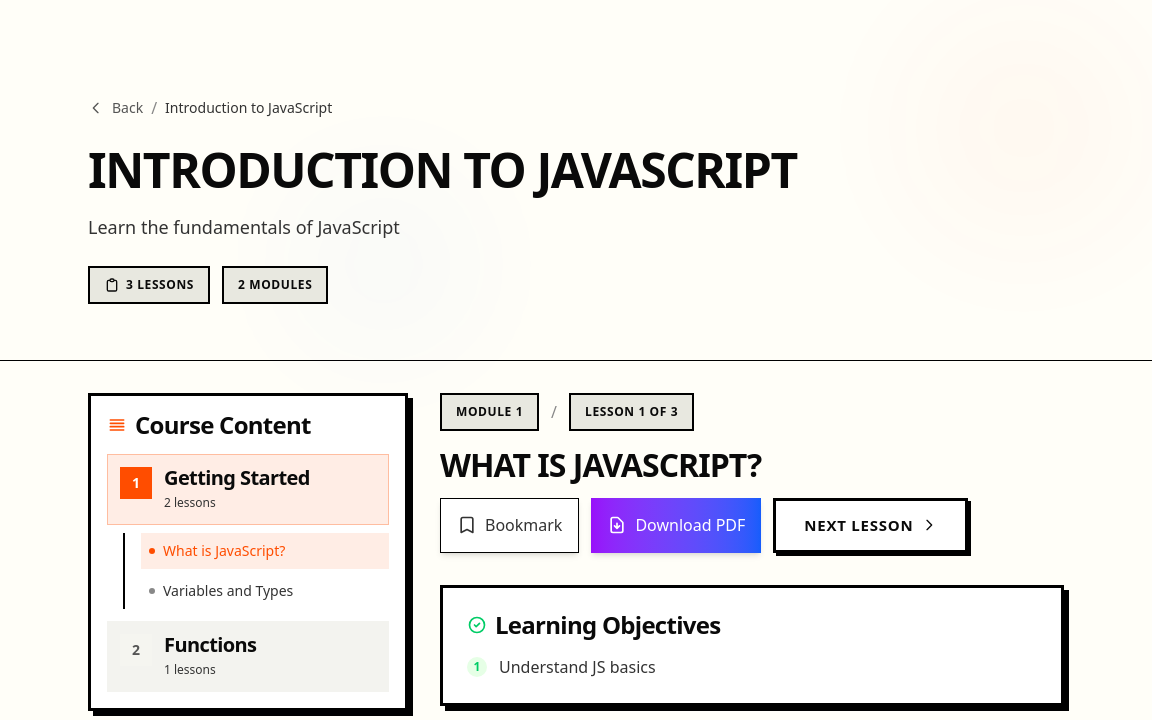
Test case: Bookmark Integration - CoursePage › should update bookmark status when navigating to next lesson
The width and height of the screenshot is (1152, 720).
Expected: the heading "What is JavaScript?" is shown, [440, 443, 761, 486]
# Bookmark the first lesson
Click the button with aria-label "bookmark this lesson" at (510, 526), box [440, 498, 579, 553]
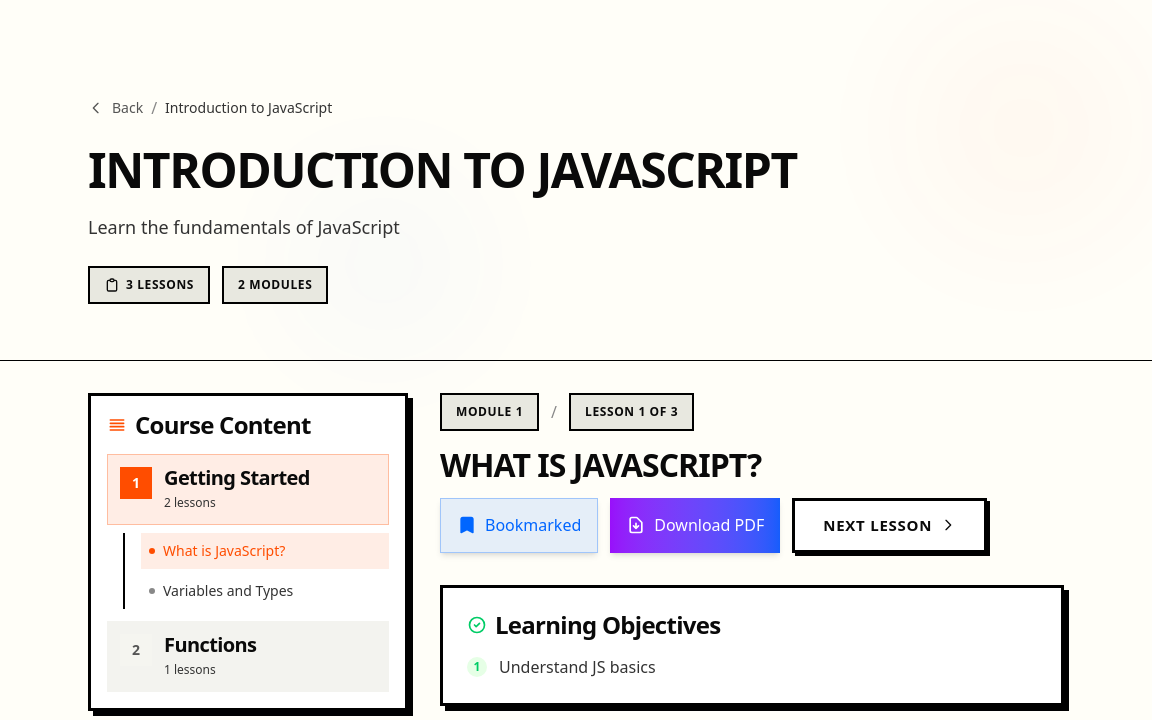
# Navigate to next lesson (click the first "Next Lesson" button in action bar)
Click the button "Next Lesson" at (890, 526), box [792, 498, 987, 553]
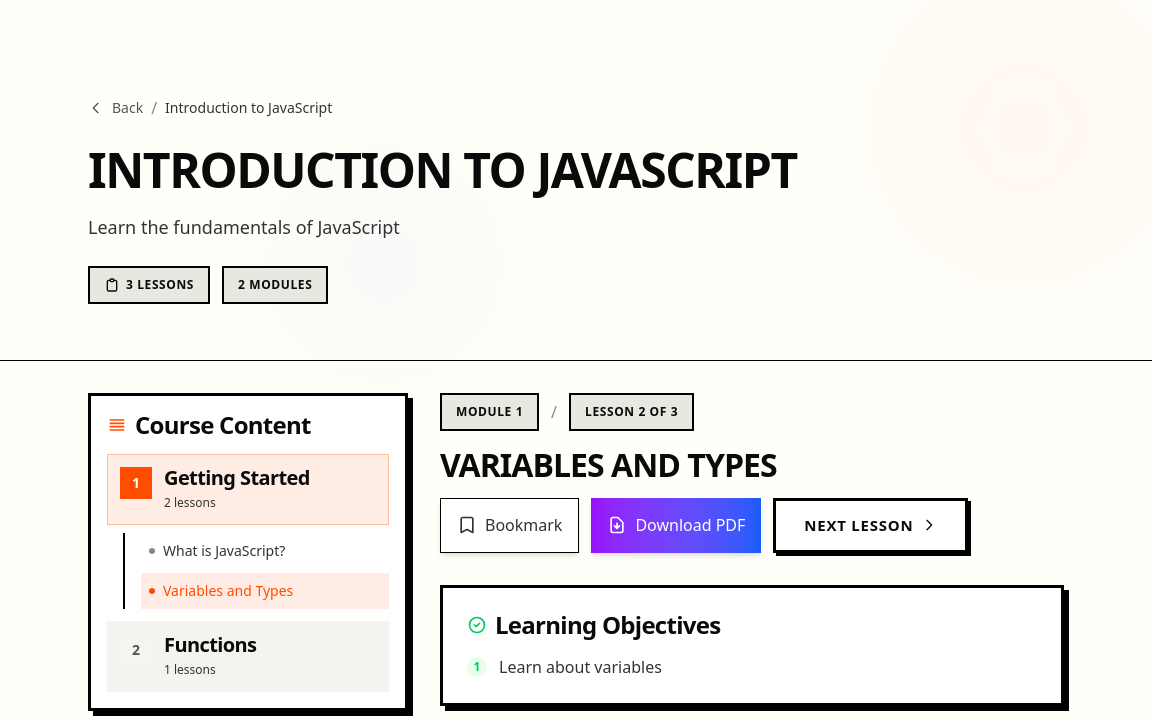
Expected: the heading "Variables and Types" is shown, [440, 443, 777, 486]
